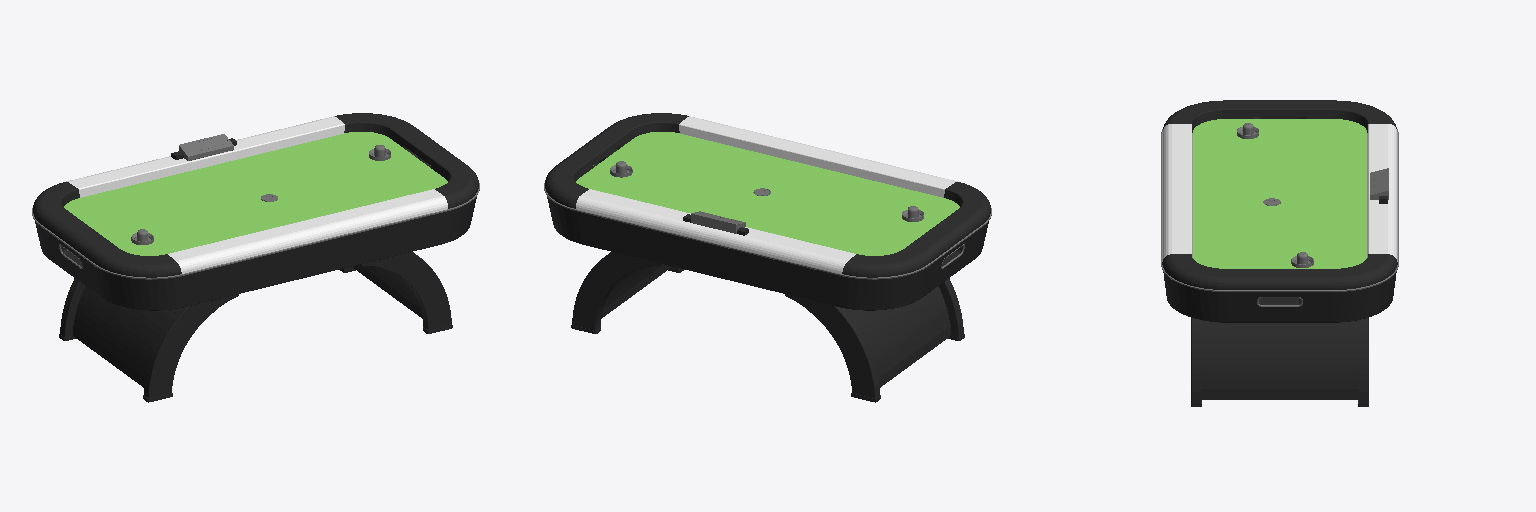
The model's file is table.obj.
3 views of the same model, side by side, from view 1: azimuth 30°, elevation 25°; view 2: azimuth 150°, elevation 25°; view 3: azimuth 270°, elevation 25° (orthographic).
Visible parts, largest first — view 1: ARCHMODELS_47_001_6, ARCHMODELS_47_001_1, ARCHMODELS_47_001_4, ARCHMODELS_47_001_7, ARCHMODELS_47_001_2, ARCHMODELS_47_001_5; view 2: ARCHMODELS_47_001_6, ARCHMODELS_47_001_1, ARCHMODELS_47_001_4, ARCHMODELS_47_001_7, ARCHMODELS_47_001_2, ARCHMODELS_47_001_5; view 3: ARCHMODELS_47_001_6, ARCHMODELS_47_001_1, ARCHMODELS_47_001_4, ARCHMODELS_47_001_7, ARCHMODELS_47_001_2.
Boxes of the visible parts, x1,y1,x2,y2 form: ARCHMODELS_47_001_6: [64, 132, 447, 255]; ARCHMODELS_47_001_1: [33, 113, 478, 310]; ARCHMODELS_47_001_4: [59, 252, 452, 402]; ARCHMODELS_47_001_7: [66, 116, 447, 273]; ARCHMODELS_47_001_2: [32, 183, 479, 279]; ARCHMODELS_47_001_5: [171, 134, 236, 160]; ARCHMODELS_47_001_6: [576, 132, 959, 255]; ARCHMODELS_47_001_1: [545, 113, 990, 310]; ARCHMODELS_47_001_4: [571, 252, 964, 402]; ARCHMODELS_47_001_7: [576, 116, 957, 273]; ARCHMODELS_47_001_2: [544, 183, 991, 279]; ARCHMODELS_47_001_5: [683, 211, 748, 235]; ARCHMODELS_47_001_6: [1193, 119, 1366, 268]; ARCHMODELS_47_001_1: [1162, 100, 1397, 322]; ARCHMODELS_47_001_4: [1191, 318, 1368, 406]; ARCHMODELS_47_001_7: [1162, 124, 1397, 261]; ARCHMODELS_47_001_2: [1161, 129, 1398, 291].
Size of the model in its own units: 75.7 by 29.52 by 41.35.